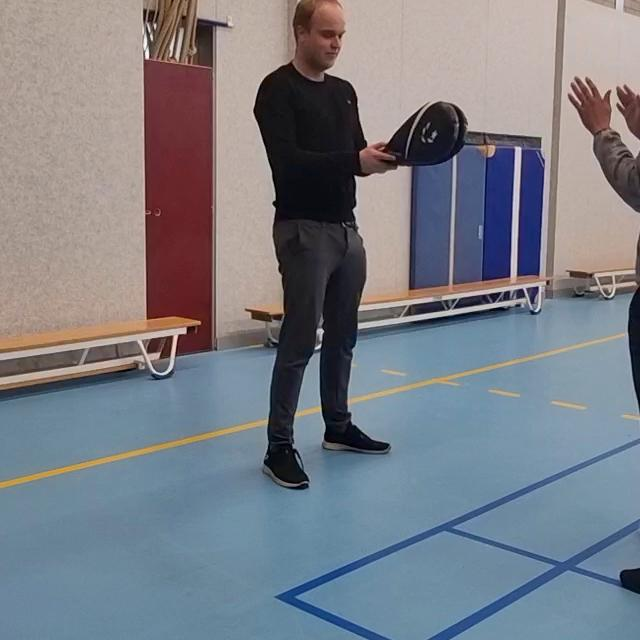paddle: (379, 100, 470, 167)
